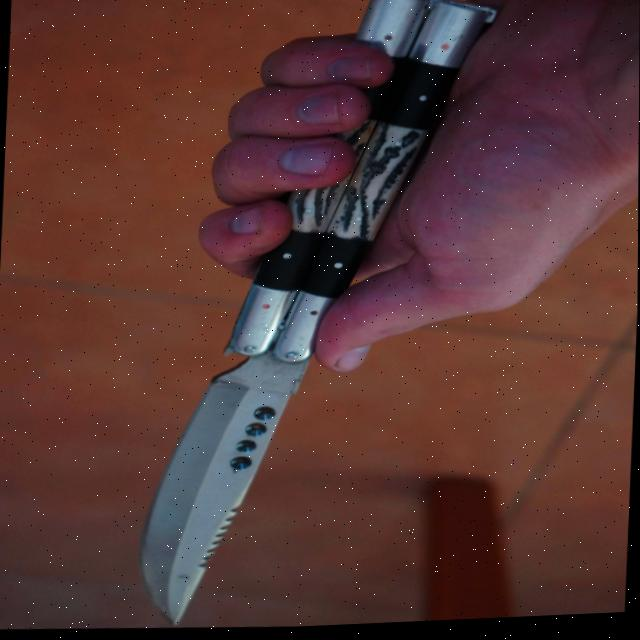knife: (134, 0, 496, 635)
